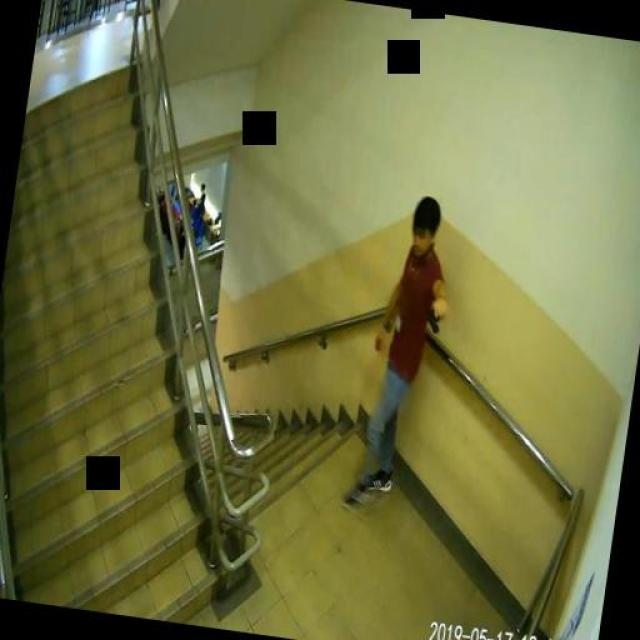gun: (424, 300, 446, 332)
